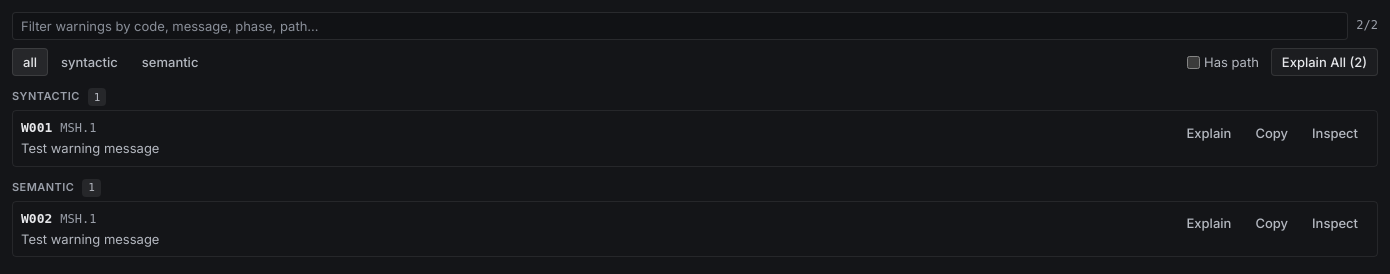
Test: WarningList › filtering › should filter by phase using chip buttons
Note: Click on syntactic chip
What coordinates should you click on to do the following:
click the button "syntactic"
I would click on:
 (89, 62)
Its box is [50,48,129,76].
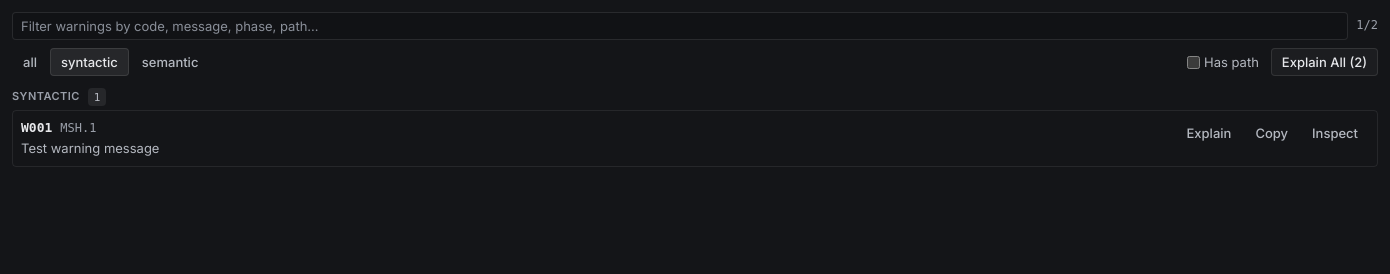
Expected: the text "W001" is shown, [21,119,52,138]
Now the button "W002" is gone
